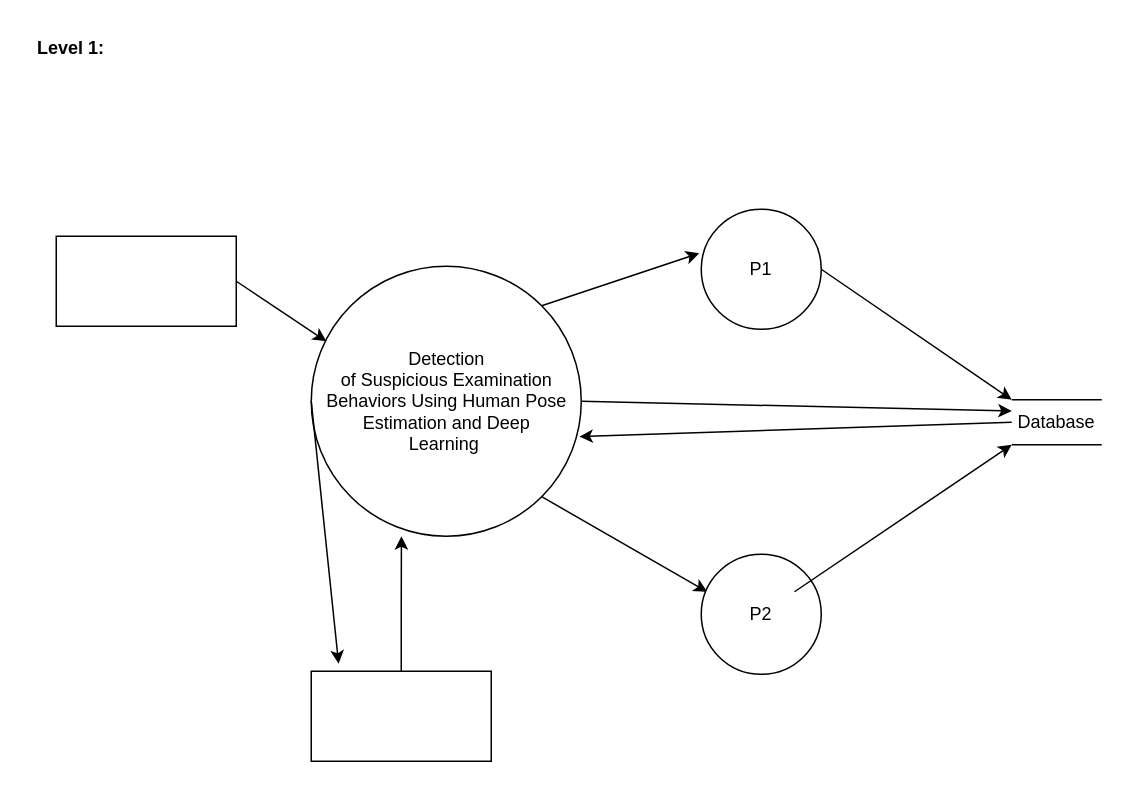
Image size: 1130x788. Some labels were removed from this diagram. Each missing label, with the centre of its shape:
"STUDENT" goes at [145,280].
"TEACHER" goes at [400,715].
